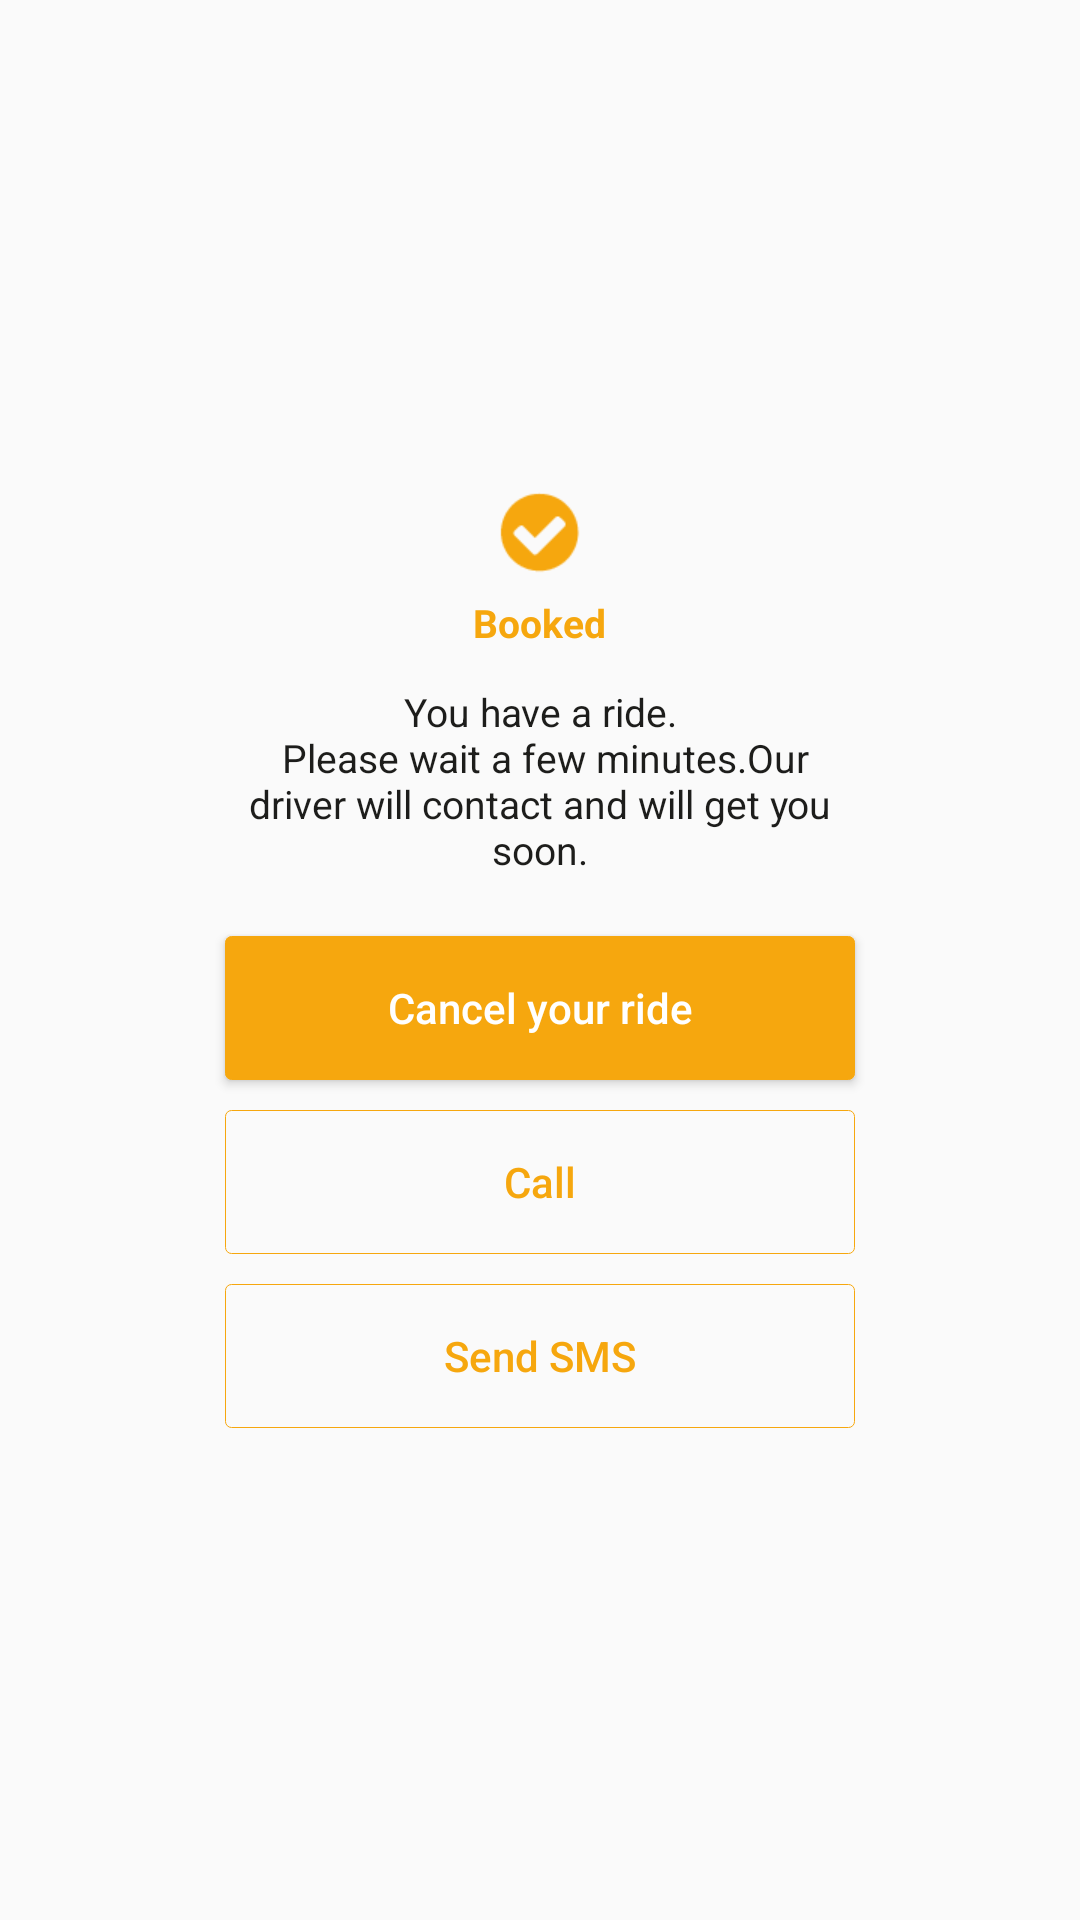

Screen size 1080w x 1920h. Icon name, then its box in pixels as (x1, y1, x2, y2):
success: (500, 493, 579, 572)
